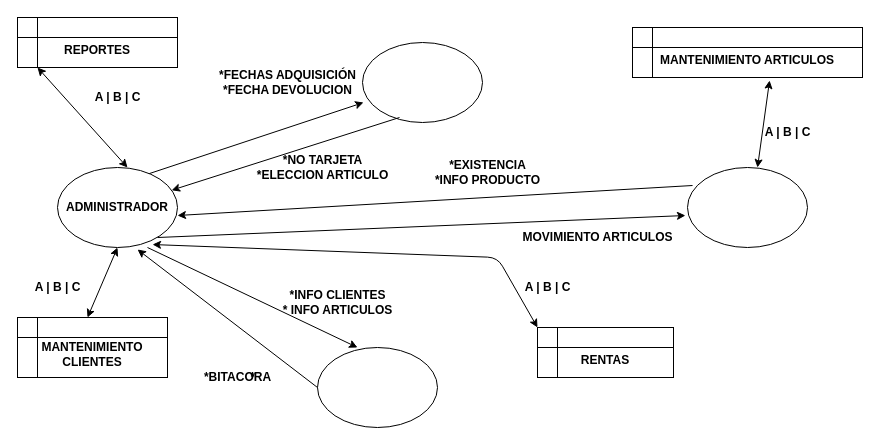
Some shapes in this 880 by 445 pixel diagram are drawn without their labels. Each missing label, with the centre of its shape:
CLIENTE: pixel 422 82
PRODUCTO: pixel 747 207
REGISTRO: pixel 377 387
